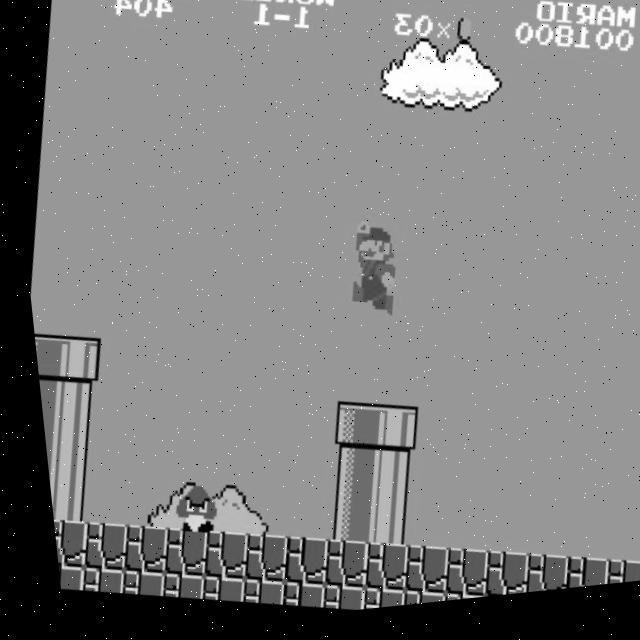0- big_mario: (336, 222, 403, 327)
14- pipe: (355, 454, 408, 510), (315, 450, 368, 506), (351, 499, 403, 555), (311, 495, 363, 551), (36, 424, 88, 480), (40, 378, 92, 433), (39, 469, 84, 524), (31, 375, 52, 426), (34, 421, 48, 472)
15- pipe_head: (44, 332, 96, 388), (360, 408, 412, 463), (320, 404, 372, 459), (27, 329, 56, 382)
17- undestructible_block: (67, 519, 120, 575), (427, 553, 479, 609), (387, 549, 439, 605), (347, 545, 399, 601), (307, 541, 359, 597), (227, 534, 279, 590), (187, 530, 239, 586), (147, 526, 199, 582), (107, 523, 159, 579), (267, 538, 319, 593), (466, 556, 518, 606), (506, 560, 557, 603), (42, 515, 80, 570), (547, 564, 597, 599), (107, 568, 154, 602), (187, 575, 233, 609), (147, 571, 193, 605), (67, 564, 113, 598), (267, 583, 313, 616), (227, 579, 273, 612), (306, 587, 352, 619), (586, 567, 636, 596), (346, 590, 392, 616), (46, 560, 73, 592), (386, 594, 431, 613), (427, 598, 471, 609), (627, 574, 640, 593)
8- goomba: (158, 481, 213, 541)
